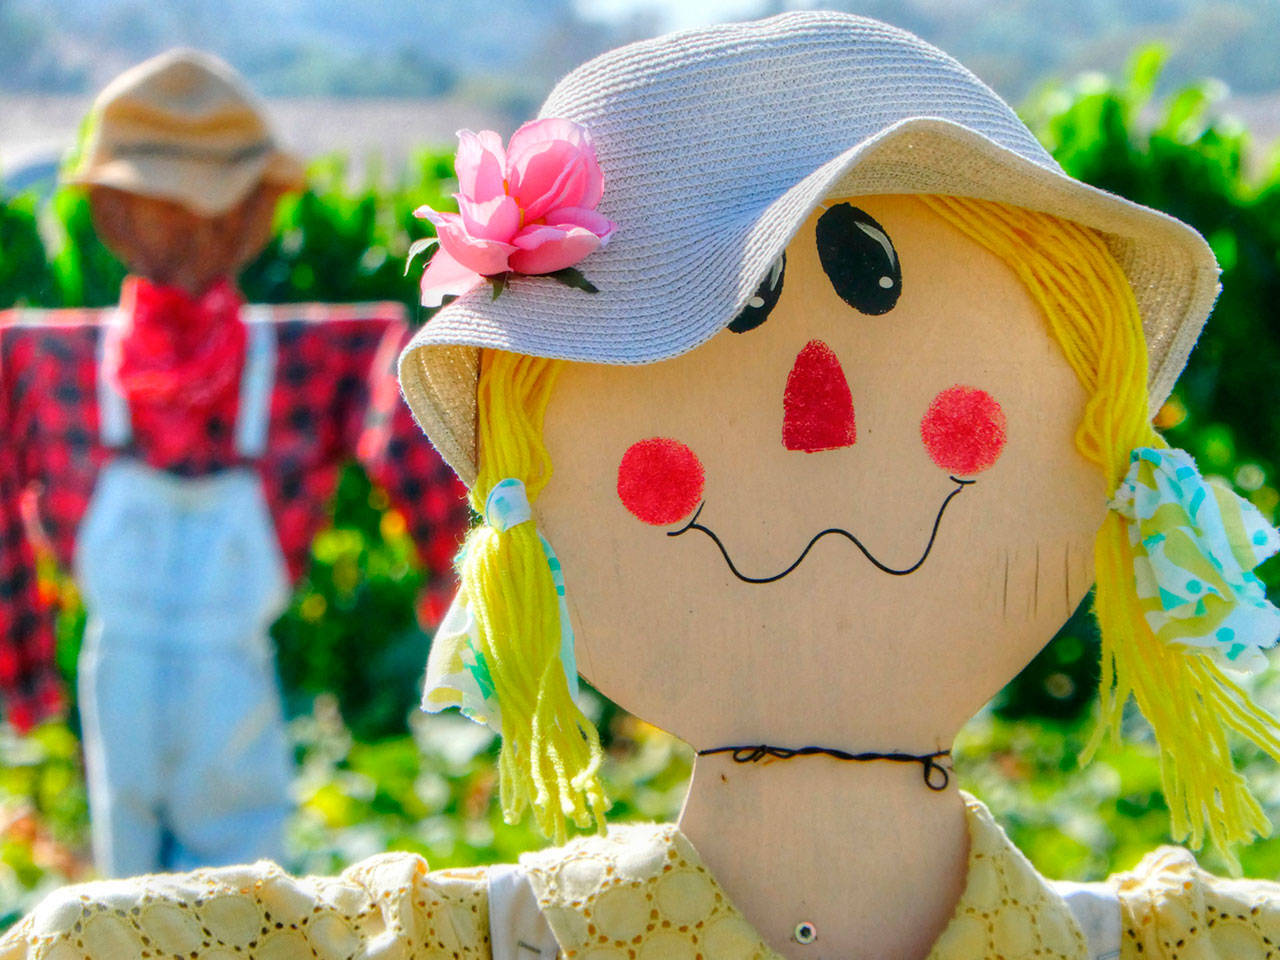person-like: (3, 2, 1272, 960), (4, 38, 476, 900)
